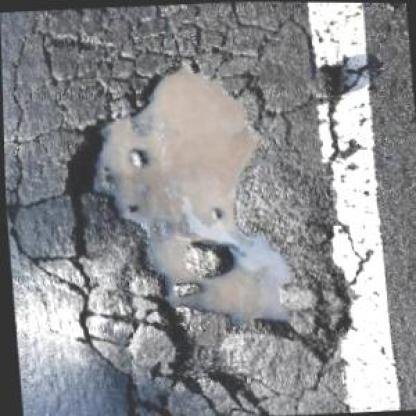pothole: (46, 47, 351, 376)
